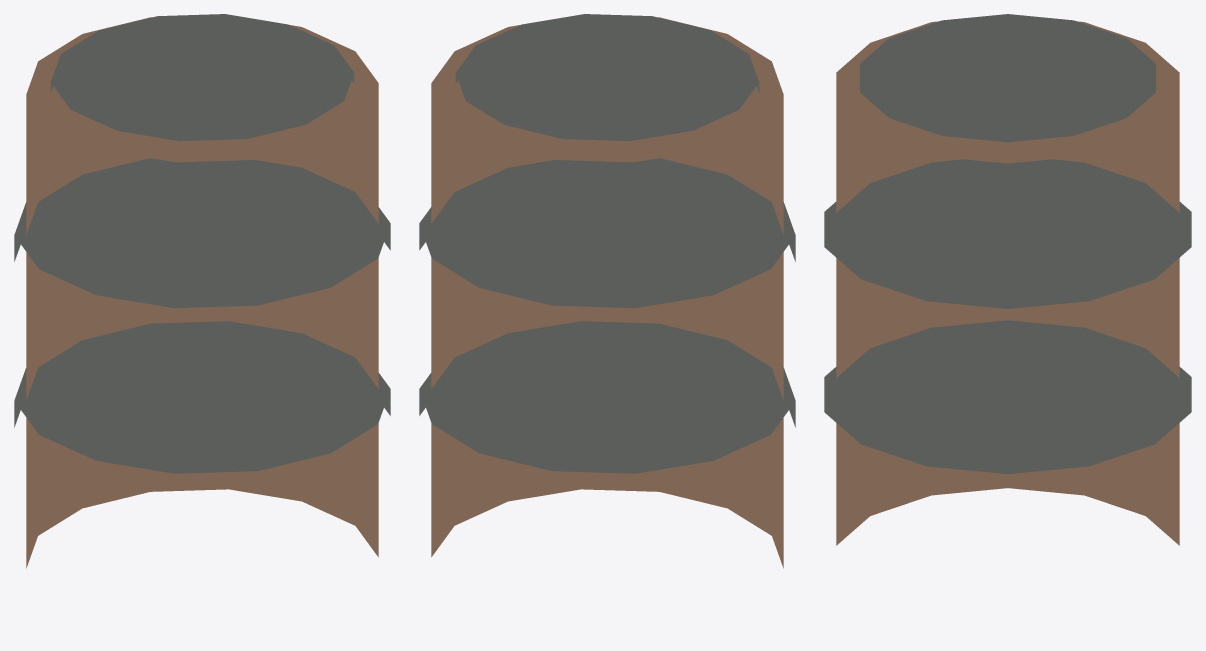
The model's file is p_barrel.glb.
The picture shows the model from 3 angles, left to right: view 1: azimuth 30°, elevation 25°; view 2: azimuth 150°, elevation 25°; view 3: azimuth 270°, elevation 25°; orthographic projection.
Visible parts, largest first — view 1: body; view 2: body; view 3: body.
Boxes of the visible parts, bbox=[...] form: body: bbox=[14, 14, 390, 568]; body: bbox=[419, 14, 795, 568]; body: bbox=[824, 14, 1191, 545].
Size of the model in its own units: 0.62 by 0.88 by 0.6045.
